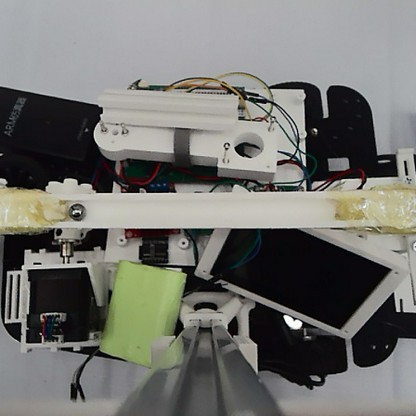ironball: (65, 201, 87, 221)
